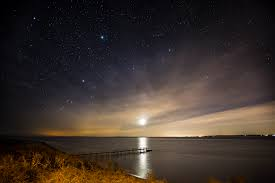moon: (138, 118, 147, 126)
